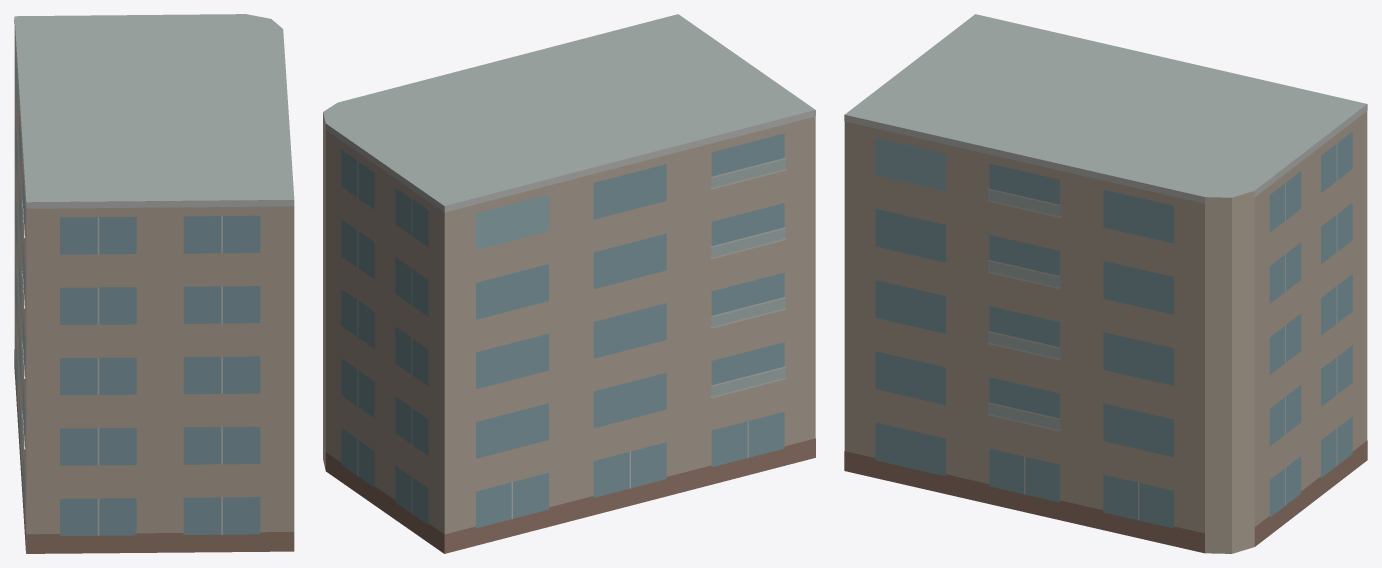
Rendered from survey-upis-32670166.glb.
3 views of the same model, side by side, from view 1: azimuth 30°, elevation 25°; view 2: azimuth 150°, elevation 25°; view 3: azimuth 270°, elevation 25° (orthographic). The views are drawn at different scales.
Parts seen in each view (by area): view 1: survey-upis-32670166.tmp; view 2: survey-upis-32670166.tmp; view 3: survey-upis-32670166.tmp.
Part boxes in pixels (<box>): survey-upis-32670166.tmp: <box>14,14,294,553</box>; survey-upis-32670166.tmp: <box>323,14,815,553</box>; survey-upis-32670166.tmp: <box>844,14,1367,553</box>.
Size of the model in its own units: 14.38 by 13 by 17.3.
